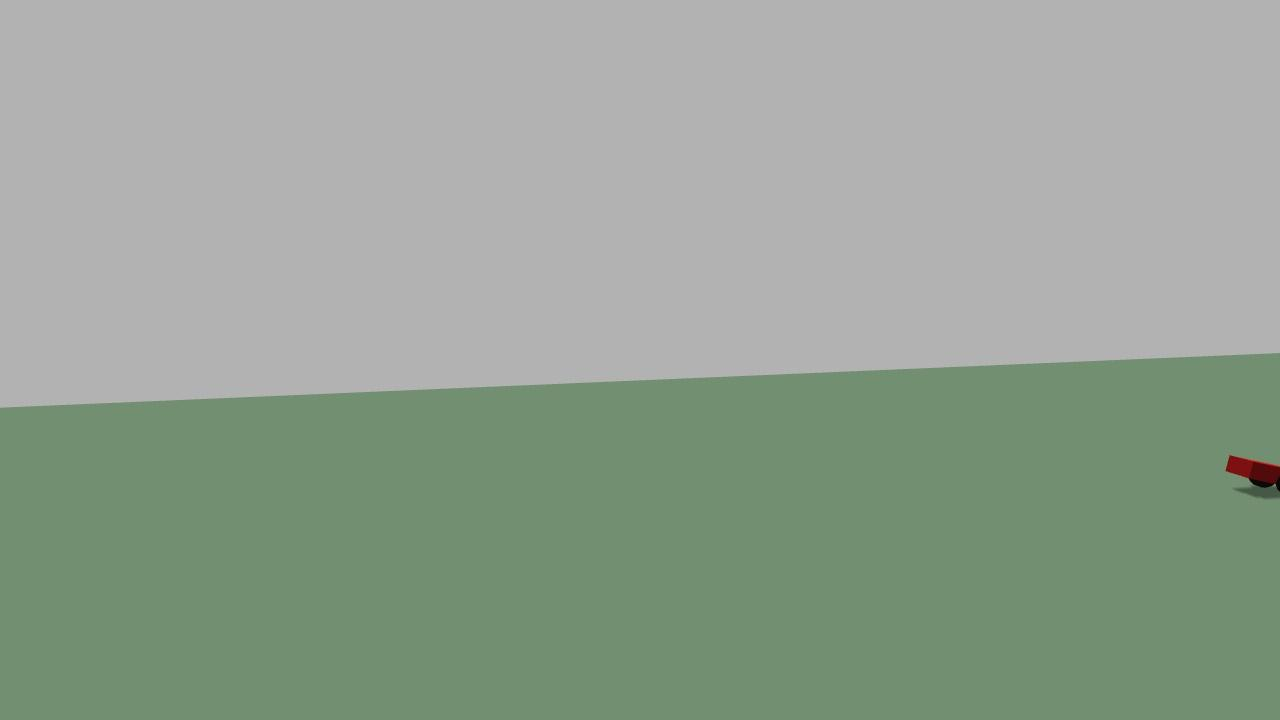ground_vehicle: (1218, 445, 1280, 501)
